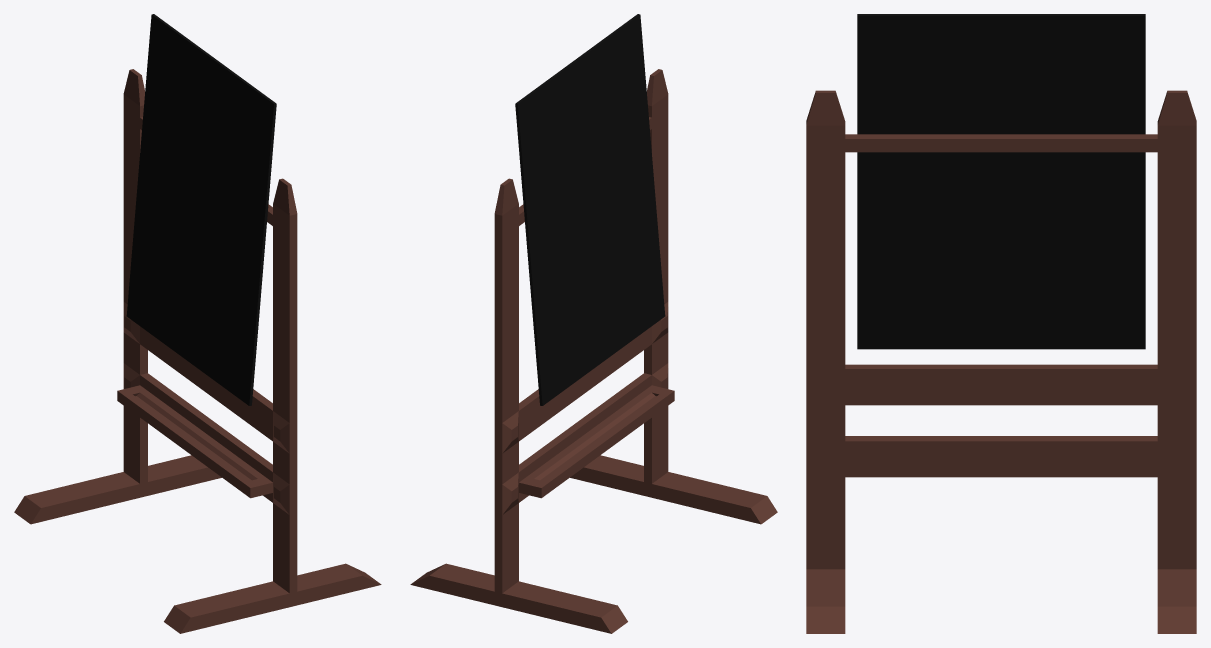
3 views of the same model, side by side, from view 1: azimuth 30°, elevation 25°; view 2: azimuth 150°, elevation 25°; view 3: azimuth 270°, elevation 25° (orthographic). The views are drawn at different scales.
Parts seen in each view (by area): view 1: Cube.016; view 2: Cube.016; view 3: Cube.016.
Boxes of the visible parts, x1,y1,x2,y2 form: Cube.016: (14,14,381,633); Cube.016: (410,14,777,633); Cube.016: (806,14,1196,633).
Bounding box in the file's own units: 9839 × 22647 × 14044.
